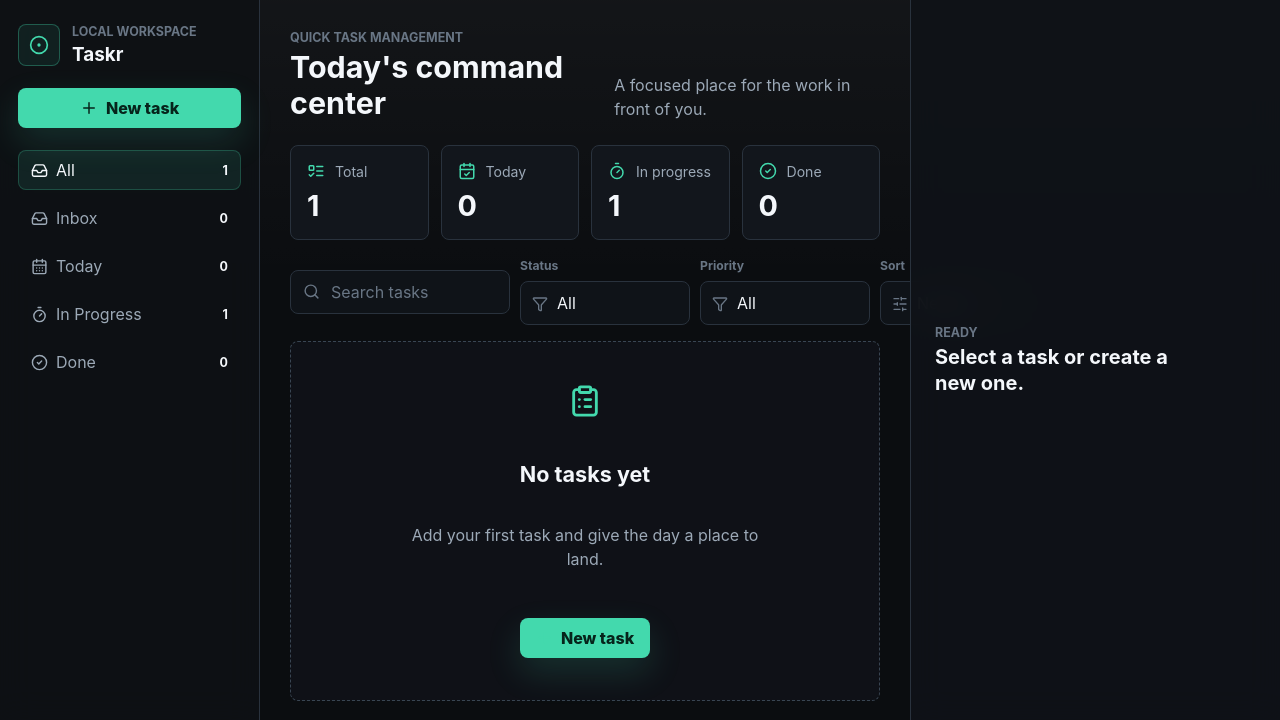
Test case: App › validates the task form before creating
Check: the heading "No tasks yet" is shown, box [520,461,650,487]
Click the button "New task" below "Taskr" at (130, 108), box [18,88,241,128]
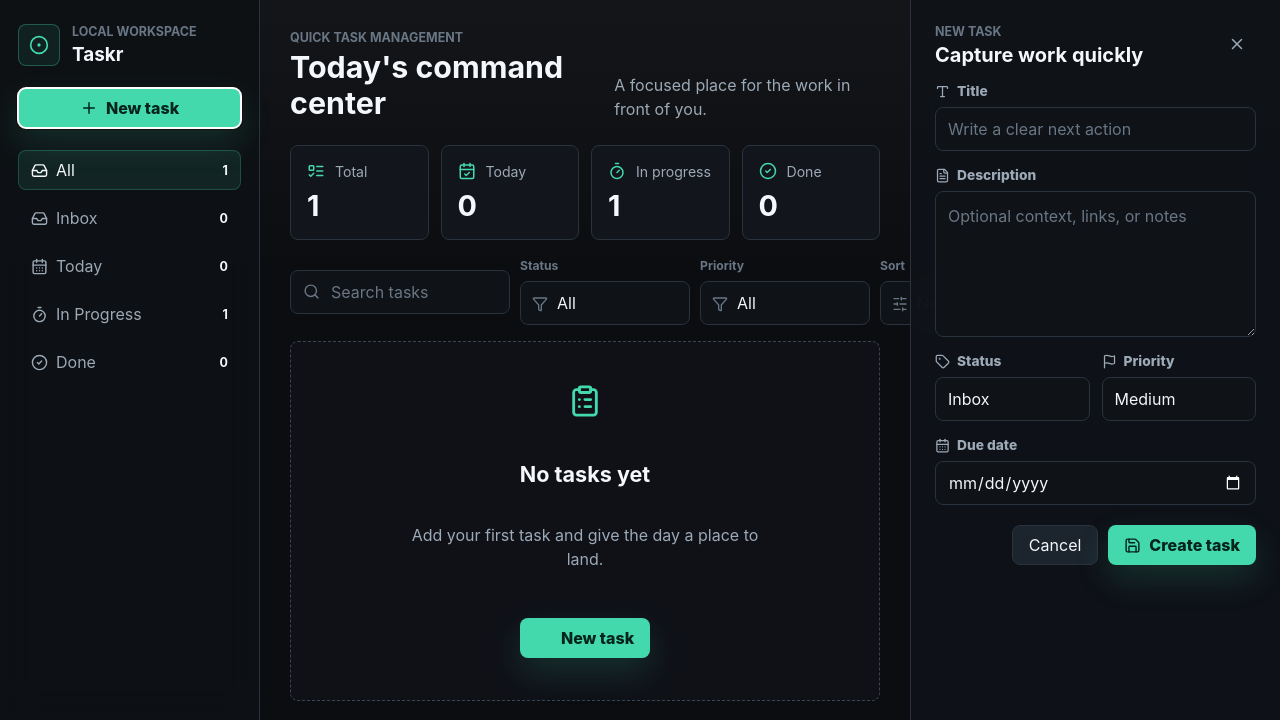
Click the button "Create task" at (1182, 545), box [1108,525,1256,565]
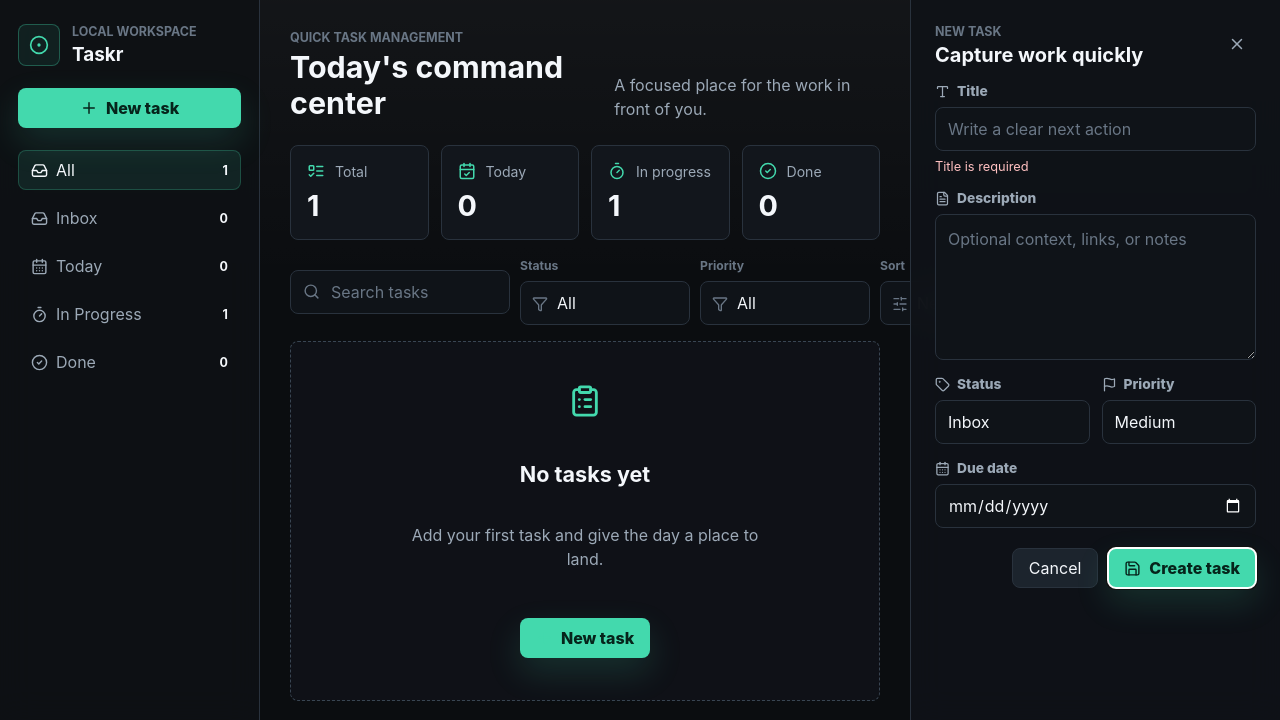
Check: the text "Title is required" is shown, box [935,159,1029,174]
